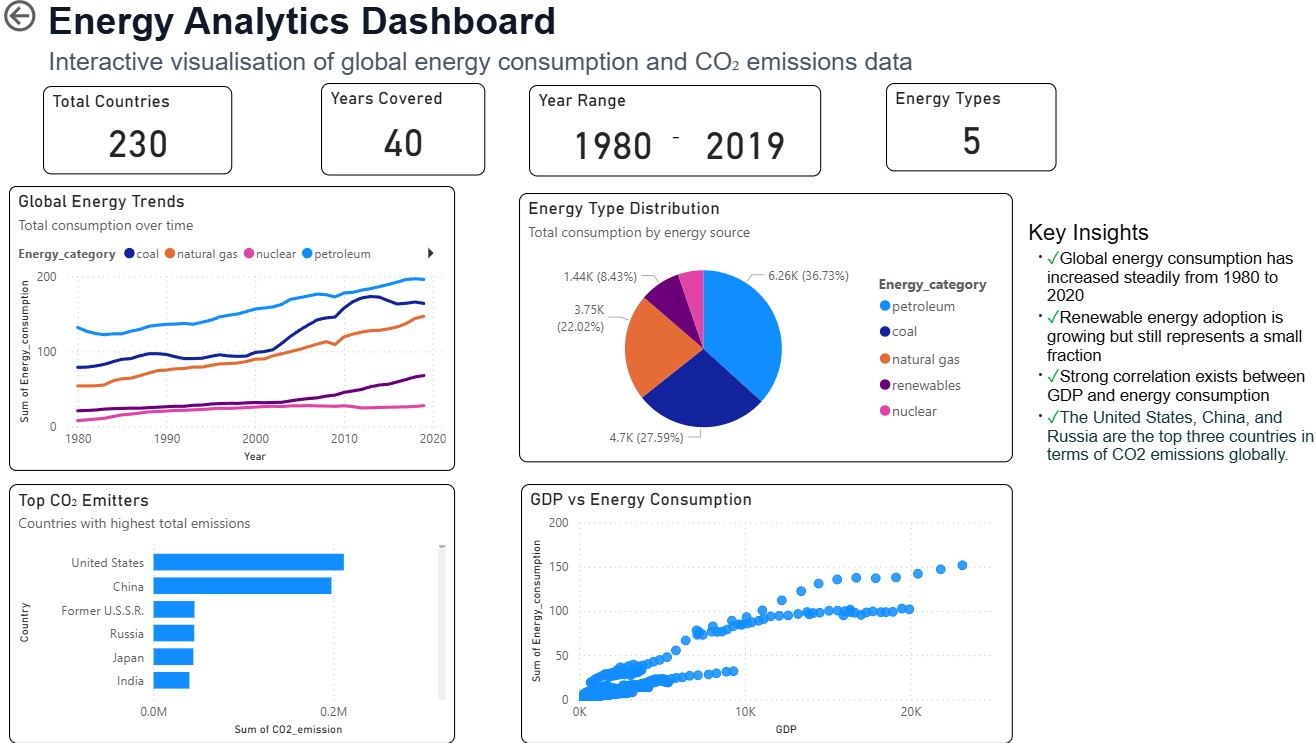

This screenshot's page, from the dashboard's own definition file:
{"tool":"powerbi","page":{"name":"Overview","canvas":[1280,720],"ordinal":0},"visuals":[{"type":"textbox","box":[42.4,0,1237.6,56.5],"z":0},{"type":"textbox","box":[42.4,45.2,962.1,46.6],"z":1000},{"type":"lineChart","title":"Global Energy Trends","fields":{"Category":["cleaned_energy_data.Year"],"Y":["Sum(cleaned_energy_data.Energy_consumption)"],"Series":["cleaned_energy_data.Energy_category"]},"box":[9.9,183.7,429.5,274.1],"z":2000},{"type":"pieChart","title":"Energy Type Distribution","fields":{"Category":["cleaned_energy_data.Energy_category"],"Y":["Sum(cleaned_energy_data.Energy_consumption)"]},"box":[500.1,190.7,474.7,258.5],"z":3000},{"type":"barChart","title":"Top CO₂ Emitters","fields":{"Y":["Sum(cleaned_energy_data.CO2_emission)"],"Category":["cleaned_energy_data.Country"]},"box":[9.9,470.5,429.5,250.1],"z":4000},{"type":"actionButton","box":[0,0,100,40],"z":5000},{"type":"scatterChart","title":"GDP vs Energy Consumption","fields":{"Y":["Sum(cleaned_energy_data.Energy_consumption)"],"X":["cleaned_energy_data.GDP"]},"box":[501.5,469.9,473.3,250.1],"z":6000},{"type":"card","title":"Total Countries","fields":{"Values":["Count(cleaned_energy_data.Country)"]},"box":[42.4,87.6,182.3,84.8],"z":7000},{"type":"textbox","box":[984.7,211.9,285.4,295.3],"z":8000},{"type":"card","title":"Years Covered","fields":{"Values":["Count(cleaned_energy_data.Year)"]},"box":[309.4,84.8,158.2,89],"z":9000},{"type":"card","title":"Energy Types","fields":{"Values":["Count(cleaned_energy_data.Energy_category)"]},"box":[853.3,84.8,163.9,84.8],"z":10000},{"type":"card","fields":{"Values":["Min(cleaned_energy_data.Year)"]},"box":[519.9,101.7,138.5,79.1],"z":11000},{"type":"card","fields":{"Values":["Max(cleaned_energy_data.Year)"]},"box":[658.4,114.4,117.3,53.7],"z":12000},{"type":"textbox","title":"Year Range","box":[510,86.2,281.1,87.6],"z":13000},{"type":"textbox","box":[641.4,115.8,39.6,43.8],"z":14000}]}

Visuals, with their boxes in screenshot pixels (x1, y1, x2, y2), scaled from the page's 1280x720 canvas onto the 1316x743 screenshot:
textbox: <box>44,0,1315,58</box>
textbox: <box>44,47,1033,95</box>
"Global Energy Trends" lineChart: <box>10,190,452,472</box>
"Energy Type Distribution" pieChart: <box>514,197,1002,464</box>
"Top CO₂ Emitters" barChart: <box>10,486,452,742</box>
actionButton: <box>0,0,103,41</box>
"GDP vs Energy Consumption" scatterChart: <box>516,485,1002,742</box>
"Total Countries" card: <box>44,90,231,178</box>
textbox: <box>1012,219,1306,523</box>
"Years Covered" card: <box>318,88,481,179</box>
"Energy Types" card: <box>877,88,1046,175</box>
card - Min(cleaned_energy_data.Year): <box>535,105,677,187</box>
card - Max(cleaned_energy_data.Year): <box>677,118,798,173</box>
"Year Range" textbox: <box>524,89,813,179</box>
textbox: <box>659,119,700,165</box>
